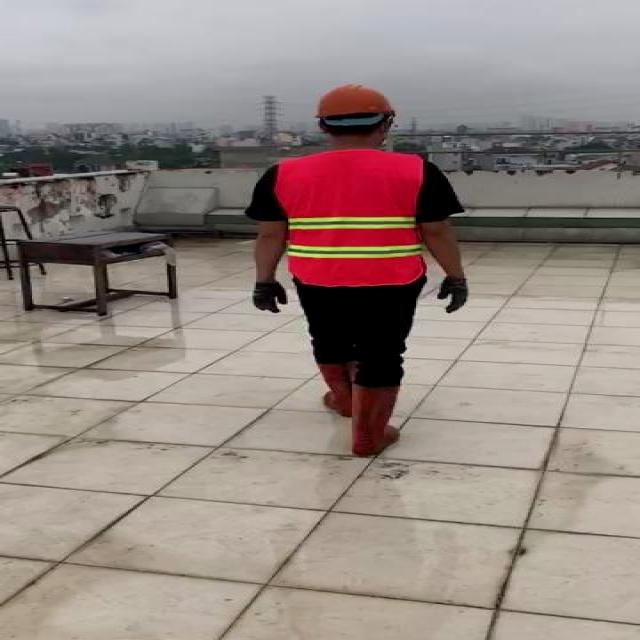boots: (348, 384, 404, 460), (318, 362, 358, 421)
hand_glove: (438, 277, 470, 314), (252, 280, 286, 312)
head_helmet: (311, 80, 404, 121)
person: (238, 80, 487, 468)
vest: (277, 150, 425, 287)
